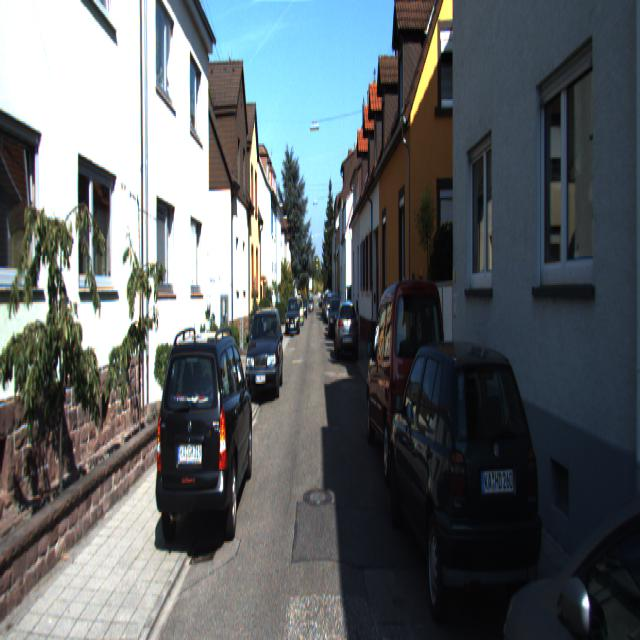Car: (387, 326, 546, 638), (497, 384, 639, 638), (157, 323, 255, 562), (365, 275, 447, 503), (245, 301, 282, 399), (336, 301, 358, 364), (286, 296, 300, 337)
